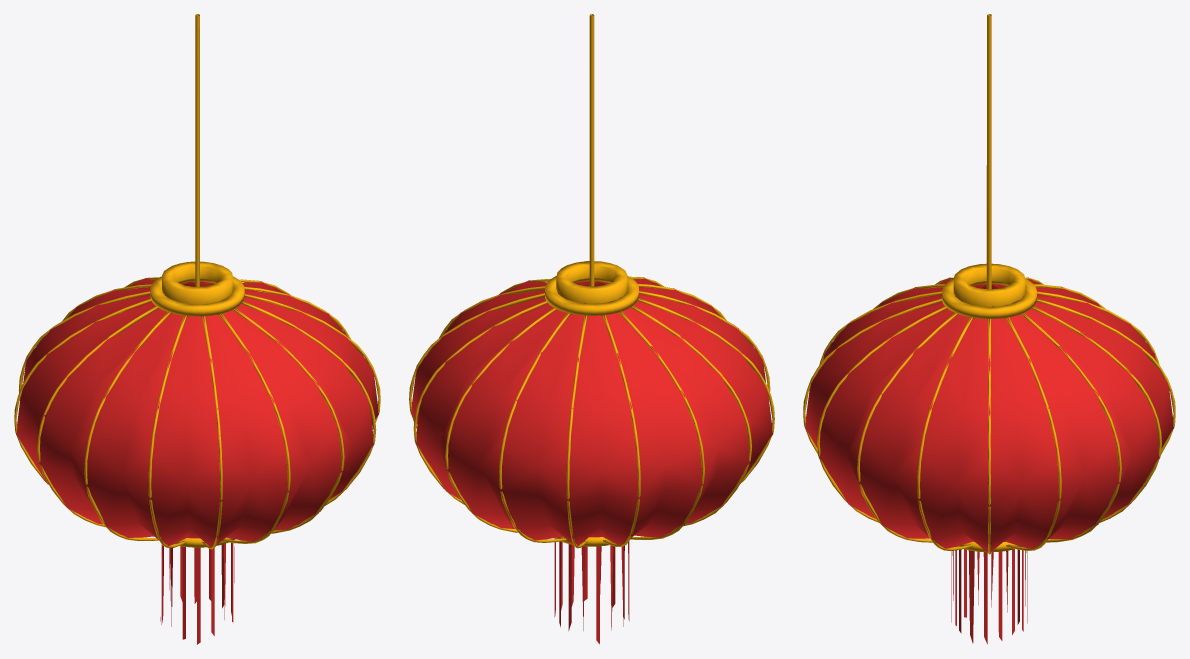
File: asian_lantern.fbx
The picture shows the model from 3 angles, left to right: view 1: azimuth 30°, elevation 25°; view 2: azimuth 150°, elevation 25°; view 3: azimuth 270°, elevation 25°; orthographic projection.
Visible parts, largest first — view 1: Sphere, Sphere.001, Object, Circle.001; view 2: Sphere, Sphere.001, Object, Circle.001; view 3: Sphere, Sphere.001, Object, Circle.001.
Boxes of the visible parts, x1=… form: Sphere: x1=16, y1=278, x2=378, y2=547; Sphere.001: x1=14, y1=277, x2=380, y2=549; Object: x1=150, y1=14, x2=244, y2=547; Circle.001: x1=160, y1=543, x2=234, y2=644; Sphere: x1=410, y1=277, x2=773, y2=545; Sphere.001: x1=409, y1=276, x2=774, y2=548; Object: x1=545, y1=14, x2=638, y2=546; Circle.001: x1=554, y1=541, x2=629, y2=644; Sphere: x1=805, y1=277, x2=1173, y2=552; Sphere.001: x1=803, y1=277, x2=1175, y2=554; Object: x1=942, y1=14, x2=1036, y2=552; Circle.001: x1=951, y1=546, x2=1027, y2=644.
Bounding box in the file's own units: 201 × 370 × 201.
